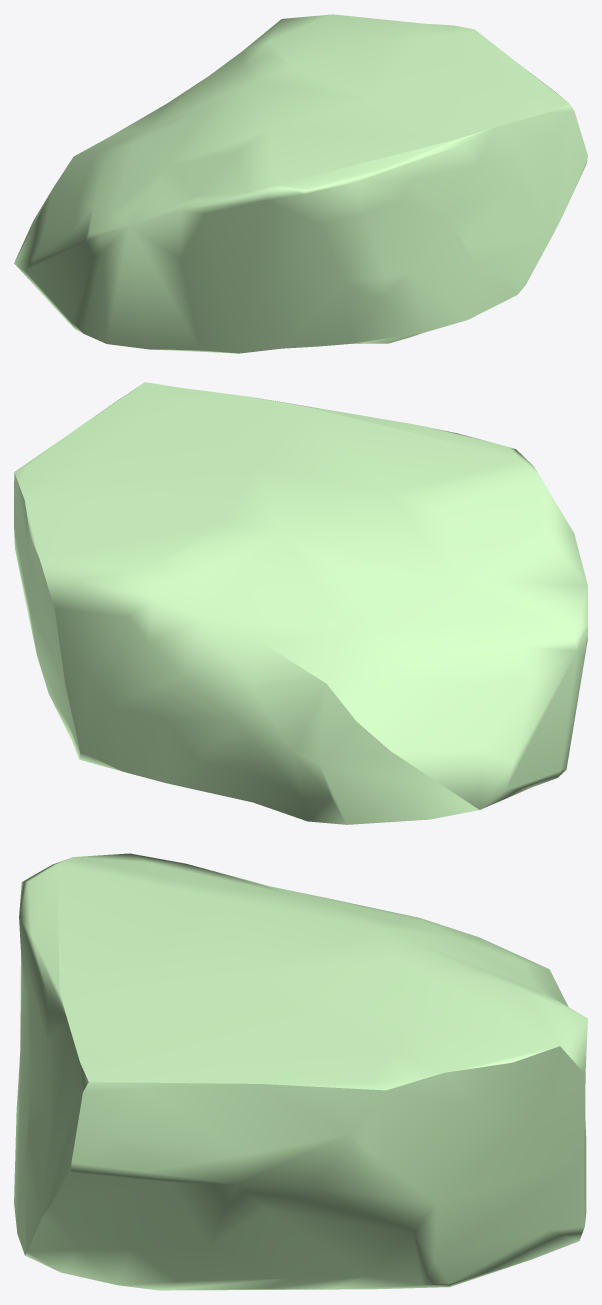
The picture shows the model from 3 angles, top to bottom: view 1: azimuth 30°, elevation 25°; view 2: azimuth 150°, elevation 25°; view 3: azimuth 270°, elevation 25°; orthographic projection. The views are drawn at different scales.
Visible parts, largest first — view 1: SM_FH_LimestoneSm_03_LOD0; view 2: SM_FH_LimestoneSm_03_LOD0; view 3: SM_FH_LimestoneSm_03_LOD0.
Boxes of the visible parts, box(x1,y1,x2,y2) form: SM_FH_LimestoneSm_03_LOD0: box(14, 14, 587, 353); SM_FH_LimestoneSm_03_LOD0: box(14, 382, 587, 824); SM_FH_LimestoneSm_03_LOD0: box(14, 853, 587, 1290).
Size of the model in its own units: 0.6433 by 0.2637 by 0.5043.
